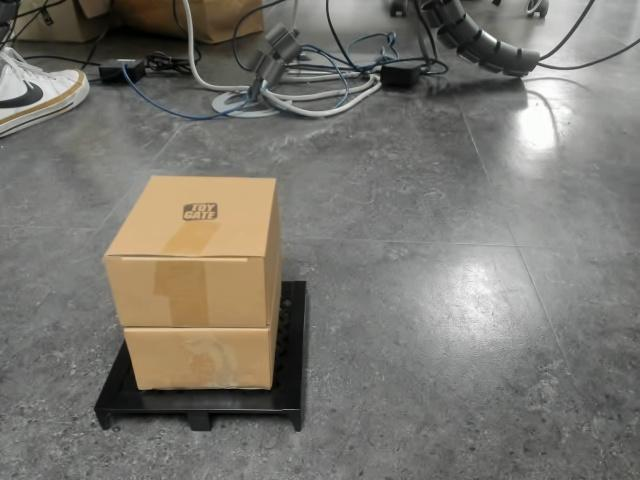box: (93, 173, 308, 433)
